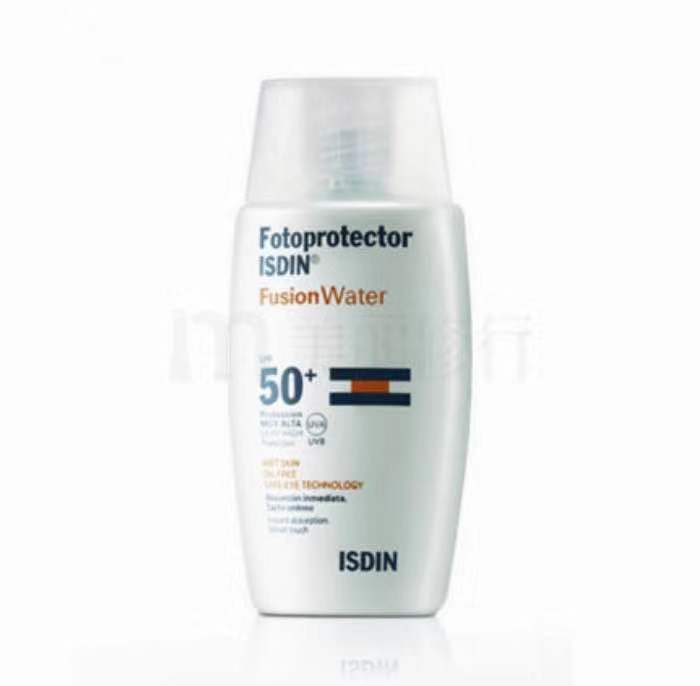cosmetic: (229, 77, 472, 620)
